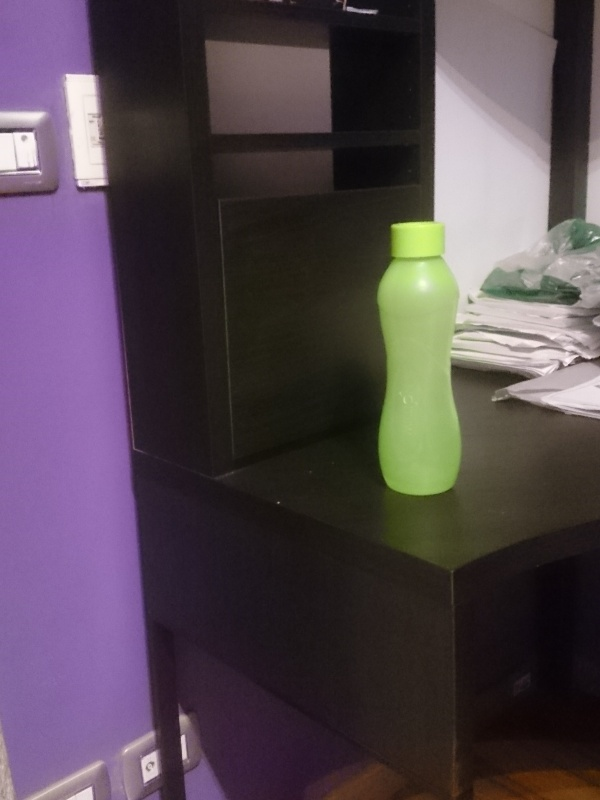my bottle: (377, 220, 463, 498)
